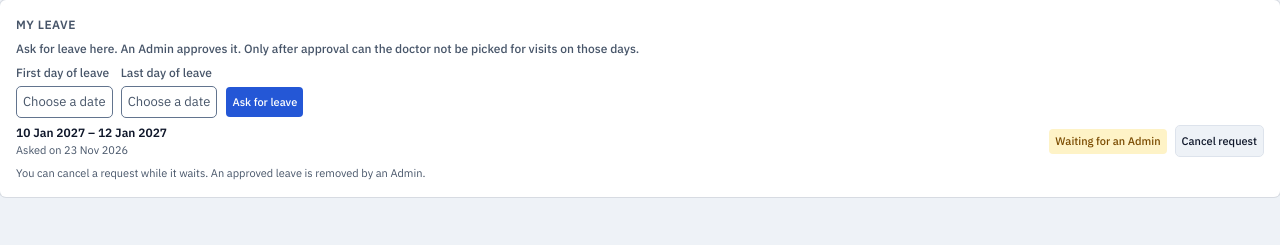
Test: MyLeave › when the cancel is refused (already decided) it shows the sentence and reloads the real state
The image size is (1280, 245).
Click the button "Cancel request" at (1219, 141), box [1175,125,1264,157]
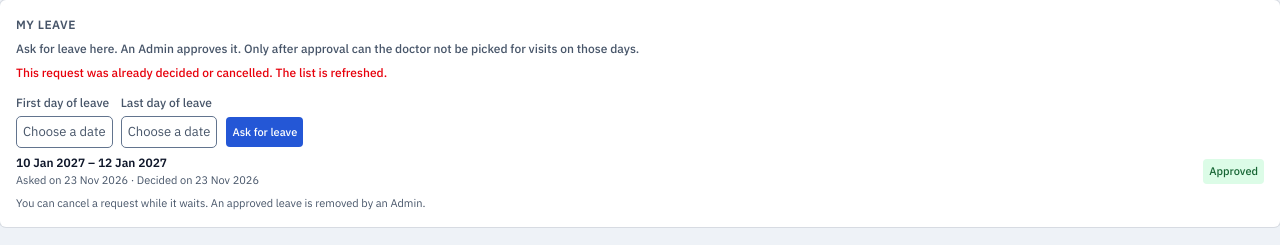
Result: the message reads "This request was already decided or cancelled. The list is refreshed." at [16,65,387,80]
Result: the text "Approved" is shown at [1203,159,1264,184]
